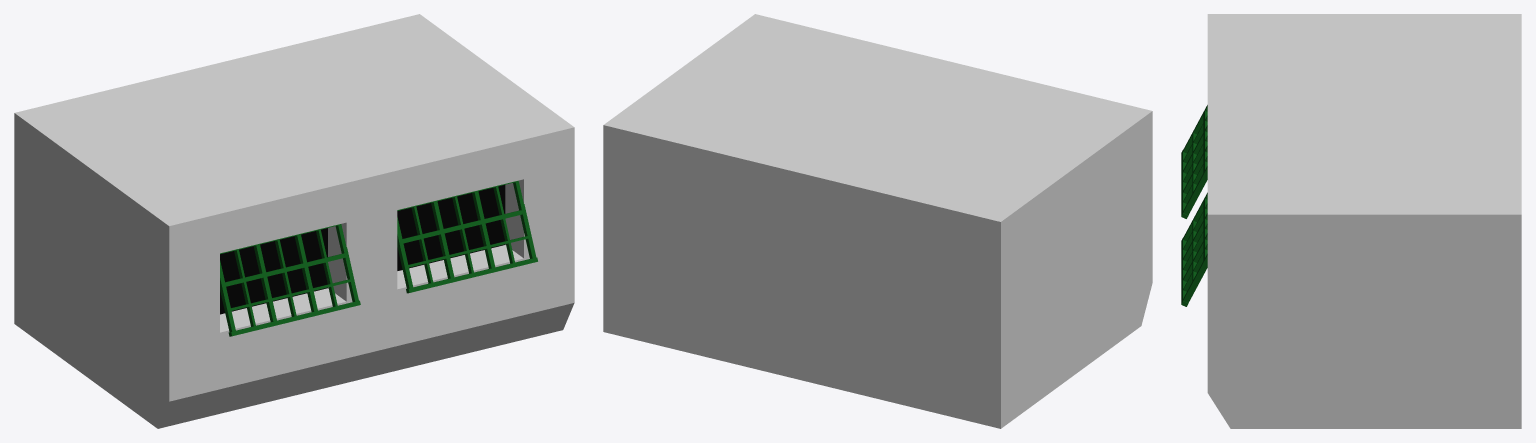
Rendered from apartment_003.glb.
The picture shows the model from 3 angles, left to right: view 1: azimuth 30°, elevation 25°; view 2: azimuth 150°, elevation 25°; view 3: azimuth 270°, elevation 25°; orthographic projection. The views are drawn at different scales.
Parts seen in each view (by area): view 1: Main_Unit, Window_Frame_Right, Window_Frame_Left, Interior_Plane_Right, Interior_Plane_Left; view 2: Main_Unit; view 3: Main_Unit, Window_Frame_Left, Window_Frame_Right.
Part boxes in pixels (x1,y1,x2,y2): Main_Unit: [14, 14, 574, 428]; Window_Frame_Right: [397, 180, 537, 293]; Window_Frame_Left: [220, 224, 360, 336]; Interior_Plane_Right: [397, 185, 505, 270]; Interior_Plane_Left: [220, 228, 327, 314]; Main_Unit: [603, 14, 1152, 428]; Main_Unit: [1207, 14, 1521, 428]; Window_Frame_Left: [1181, 105, 1207, 218]; Window_Frame_Right: [1181, 192, 1207, 306].
Bounding box in the file's own units: 18.21 × 9.06 × 13.06.
